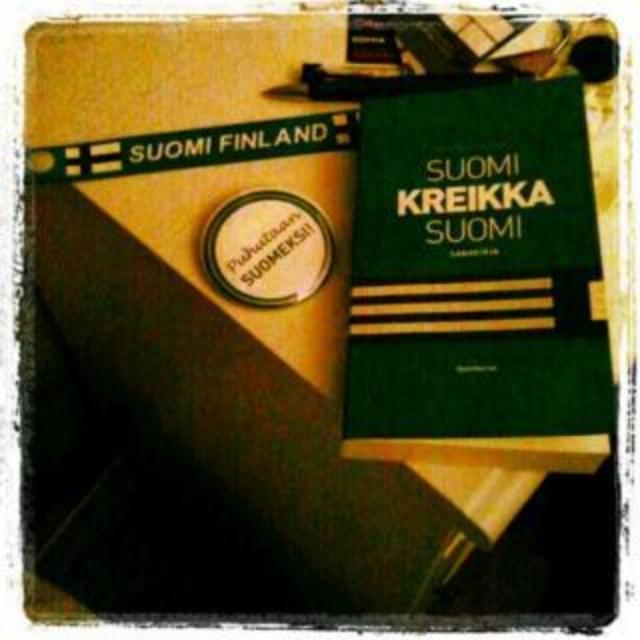book: (332, 48, 624, 528)
